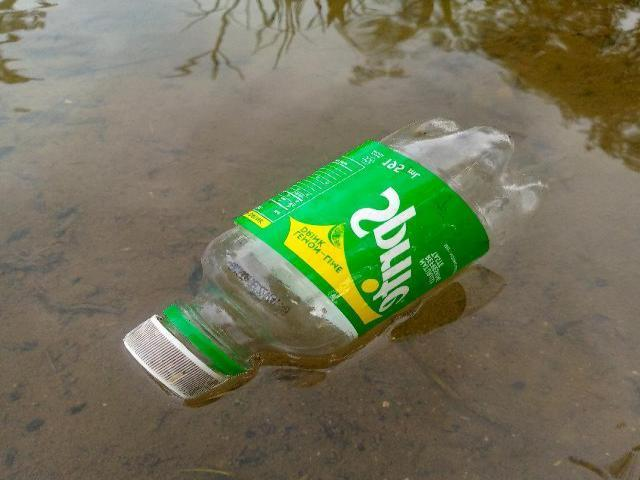Bottle: (120, 117, 546, 406)
